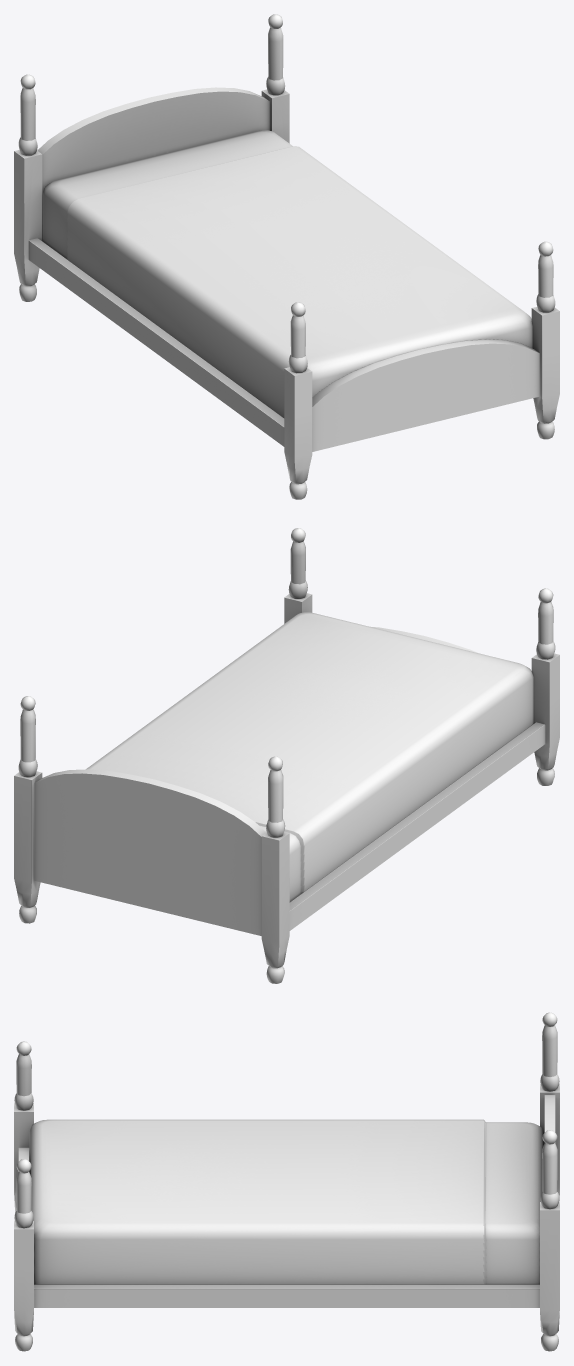
The model's file is bed.fbx.
3 renders of one model, top to bottom at view 1: azimuth 30°, elevation 25°; view 2: azimuth 150°, elevation 25°; view 3: azimuth 270°, elevation 25°, orthographic. The views are drawn at different scales.
Visible parts, largest first — view 1: Bed, Bedframe; view 2: Bed, Bedframe; view 3: Bed, Bedframe.
Part boxes in pixels (left/top/right/bottom): Bed: left=43, top=130, right=532, bottom=417; Bedframe: left=14, top=14, right=559, bottom=499; Bed: left=86, top=612, right=533, bottom=902; Bedframe: left=14, top=528, right=559, bottom=983; Bed: left=29, top=1119, right=543, bottom=1284; Bedframe: left=14, top=1012, right=559, bottom=1351.
Size of the model in its own units: 794 by 640 by 1452.
